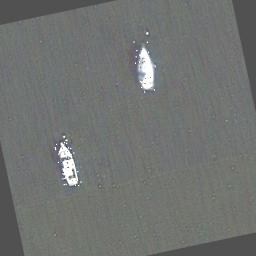boat: (130, 38, 159, 92), (53, 138, 82, 189)
